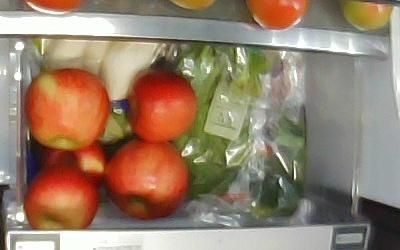apple: (25, 69, 110, 149), (106, 137, 188, 219), (23, 162, 99, 231), (127, 70, 196, 142), (41, 139, 106, 191)
